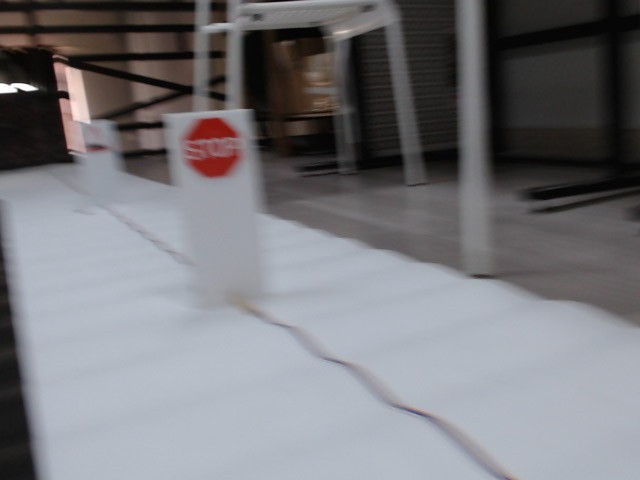Stop: (182, 119, 242, 176)
